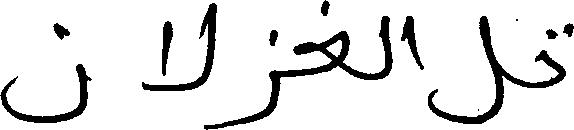X: (142, 0, 215, 129), (0, 18, 86, 127), (429, 11, 501, 128), (234, 25, 280, 129), (294, 0, 348, 81), (540, 18, 573, 92), (404, 11, 425, 74), (383, 11, 392, 82)
